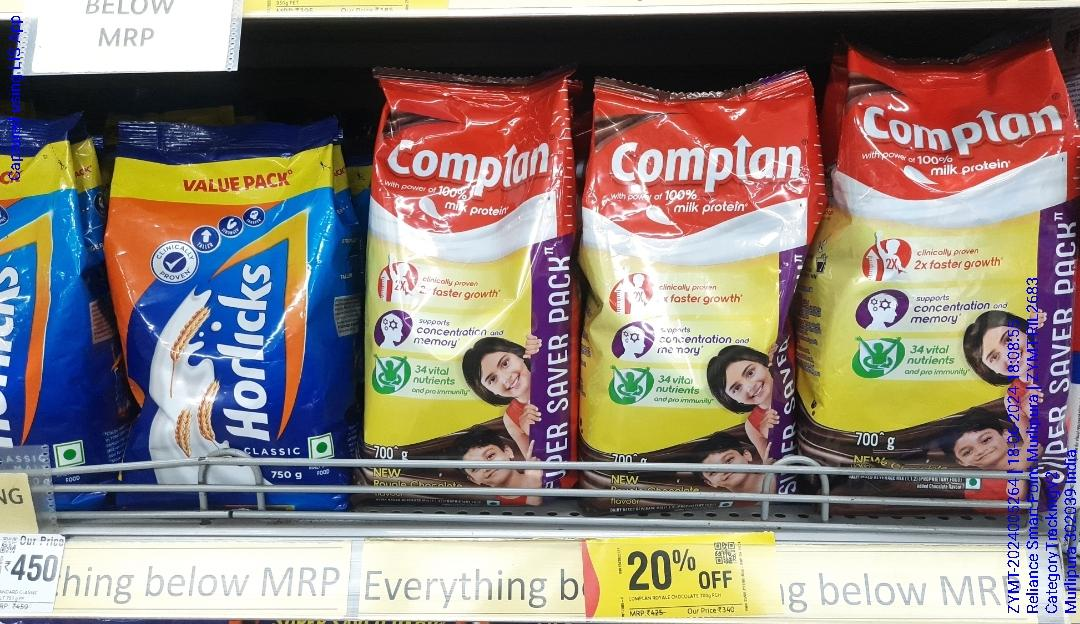COMPLAN_RC_POUCH_700_GMS_12: (809, 45, 1080, 518), (365, 62, 574, 503), (587, 71, 801, 500)
HORLICK_CLASSIC_MALT_750_G_POUCH: (109, 112, 349, 513)
